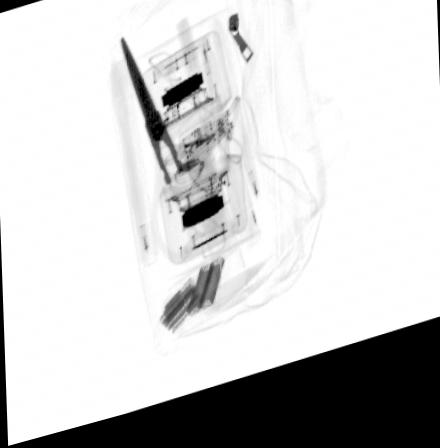Scissors: (121, 38, 230, 263)
